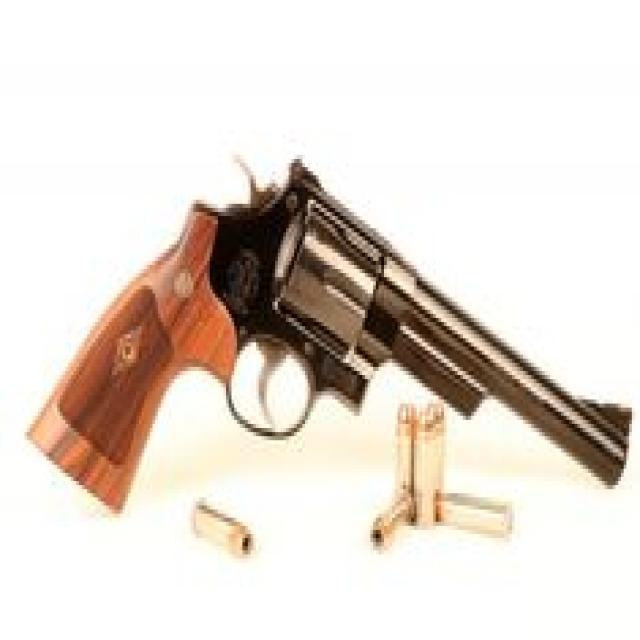revolver: (14, 142, 637, 570)
